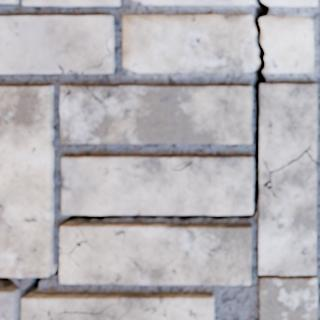brick: (60, 224, 251, 284), (60, 86, 251, 143), (62, 156, 252, 213), (0, 86, 52, 276), (259, 154, 316, 319), (0, 16, 113, 72), (22, 294, 213, 319), (260, 84, 316, 169), (0, 289, 19, 319), (22, 0, 119, 5), (60, 86, 67, 99), (0, 0, 17, 2)
broken_brick: (122, 14, 256, 73), (260, 15, 314, 73), (131, 0, 252, 6), (263, 0, 318, 7)
crack: (0, 0, 317, 319), (56, 35, 111, 74), (85, 85, 116, 123), (60, 85, 71, 105), (136, 15, 159, 24)
